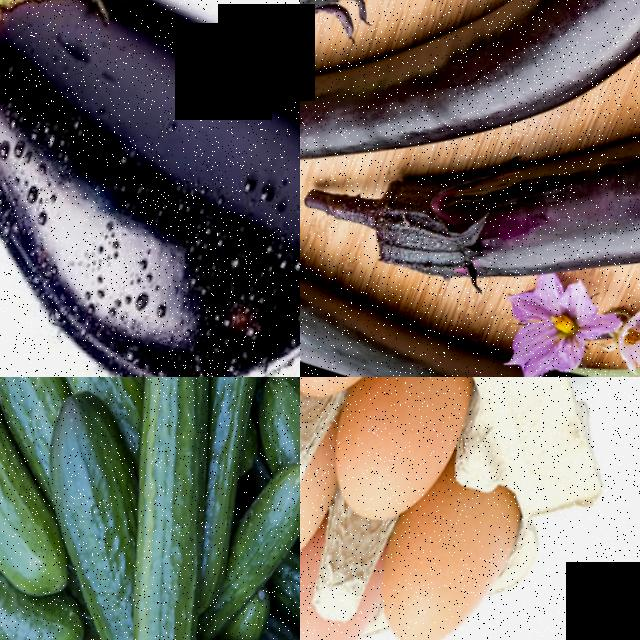cucumber: (75, 455, 254, 640), (15, 390, 156, 576), (0, 426, 98, 611), (208, 443, 300, 623), (86, 377, 250, 466)
egg_: (367, 471, 528, 640), (325, 377, 482, 538)
eggplant: (0, 0, 300, 377), (300, 213, 640, 377), (300, 0, 426, 225), (520, 74, 640, 304), (509, 0, 640, 134)
